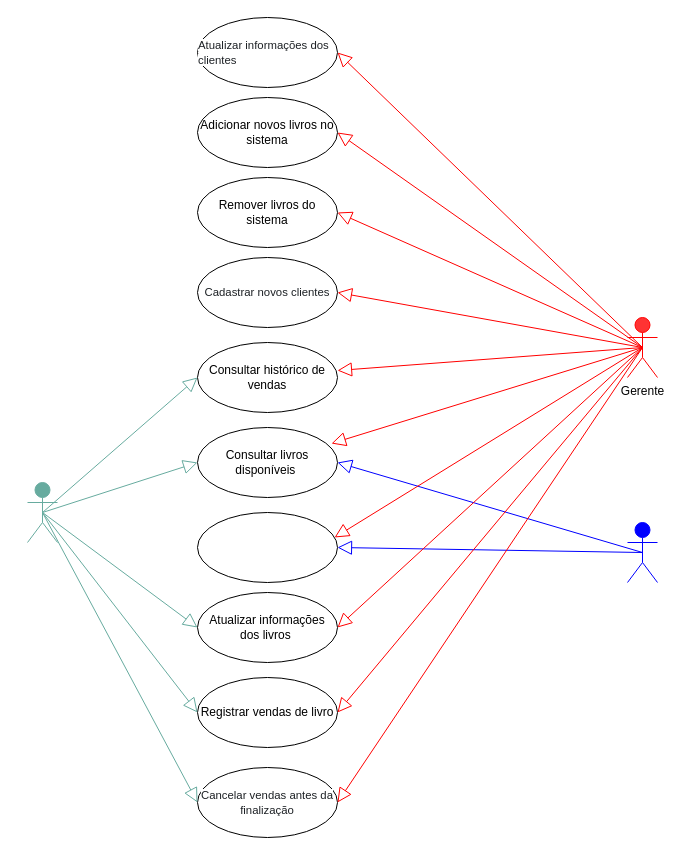
This 681x855 diagram has some shape labels left out. Each missing label, with the box of its shape:
Cliente: (626, 522, 658, 582)
Consultar histórico de compras de clientes: (196, 512, 338, 582)
Vendedor: (26, 482, 58, 542)
